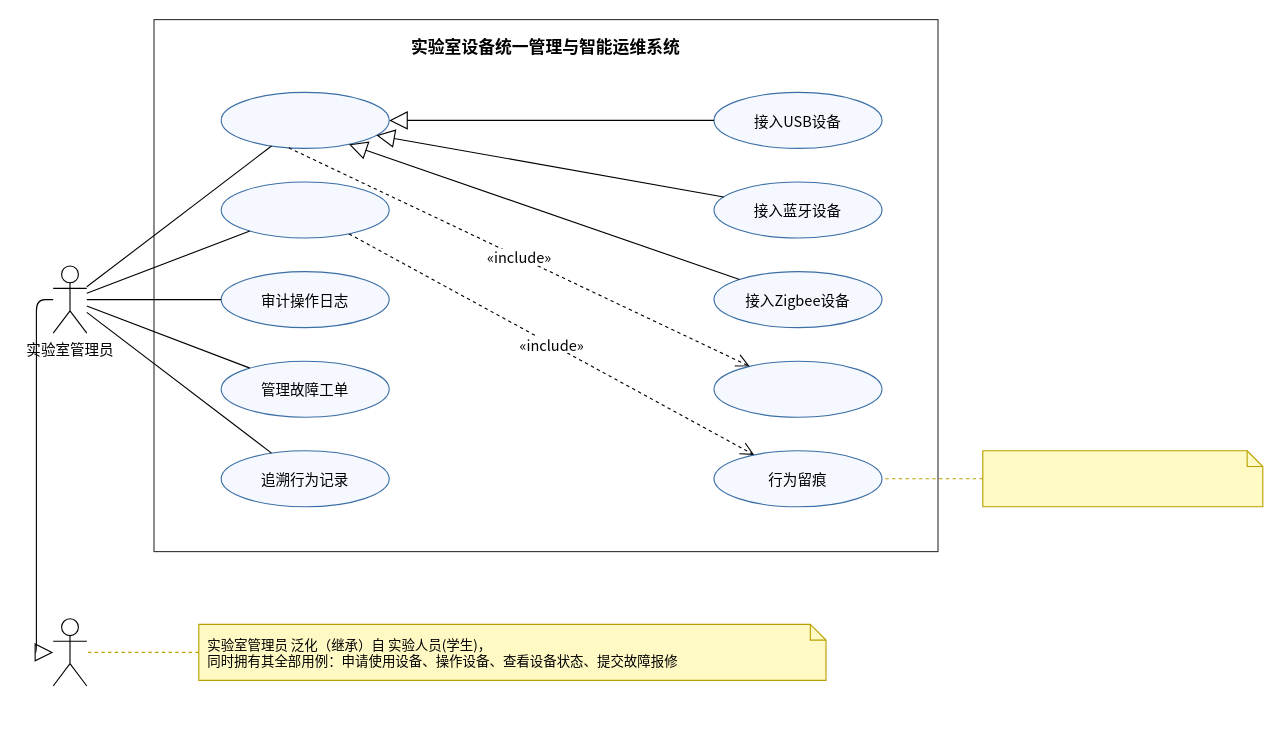
Some shapes in this 1282 by 731 pixel diagram are drawn without their labels. The centre of each missing label's shape, as x and y in pixels:
分配设备权限: (304,209)
实验人员(学生): (69,652)
接入设备: (304,119)
登录认证: (797,388)
行为留痕：记录谁、何时、对哪台设备、 做了什么、结果如何；日志只追加不可改: (1122,478)
